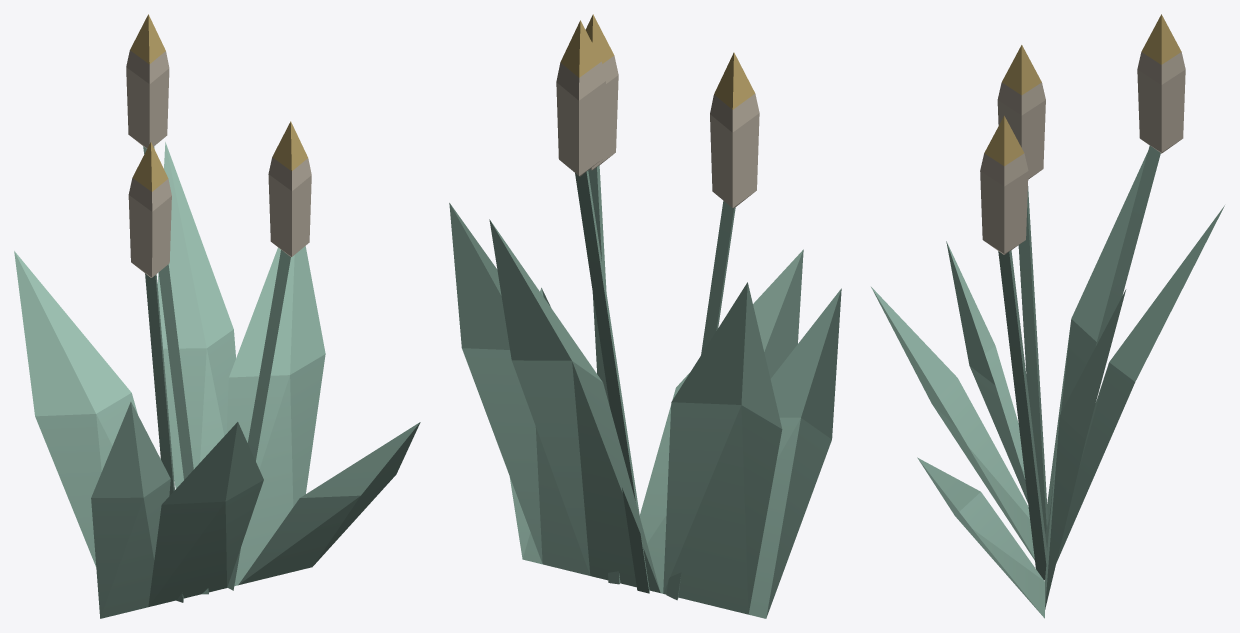
The model's file is reed.glb.
3 renders of one model, left to right at view 1: azimuth 30°, elevation 25°; view 2: azimuth 150°, elevation 25°; view 3: azimuth 270°, elevation 25°, orthographic. The views are drawn at different scales.
Visible parts, largest first — view 1: root_mesh; view 2: root_mesh; view 3: root_mesh.
Boxes of the visible parts, <box> form: root_mesh: <box>14,14,420,618</box>; root_mesh: <box>449,14,841,618</box>; root_mesh: <box>871,14,1224,618</box>.
Size of the model in its own units: 0.4735 by 0.8 by 0.4662.
